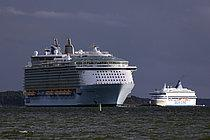Ship: (17, 36, 142, 111), (145, 78, 202, 113)
